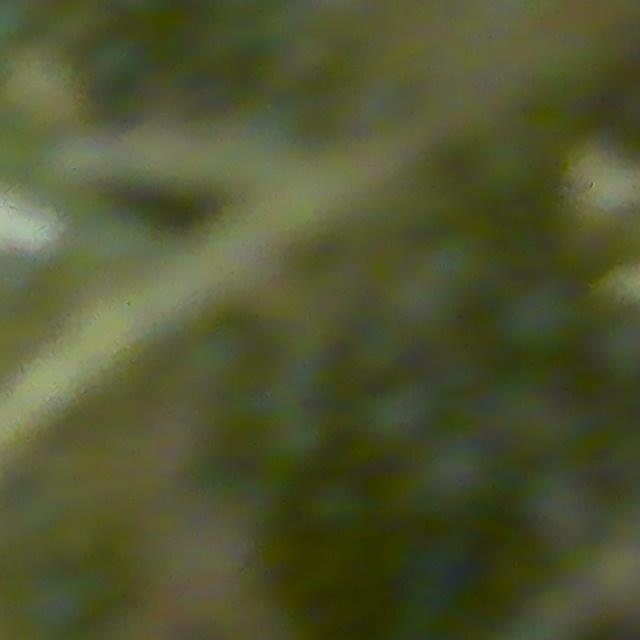SeaGrape: (412, 432, 499, 521), (498, 279, 581, 360), (362, 375, 441, 450)
